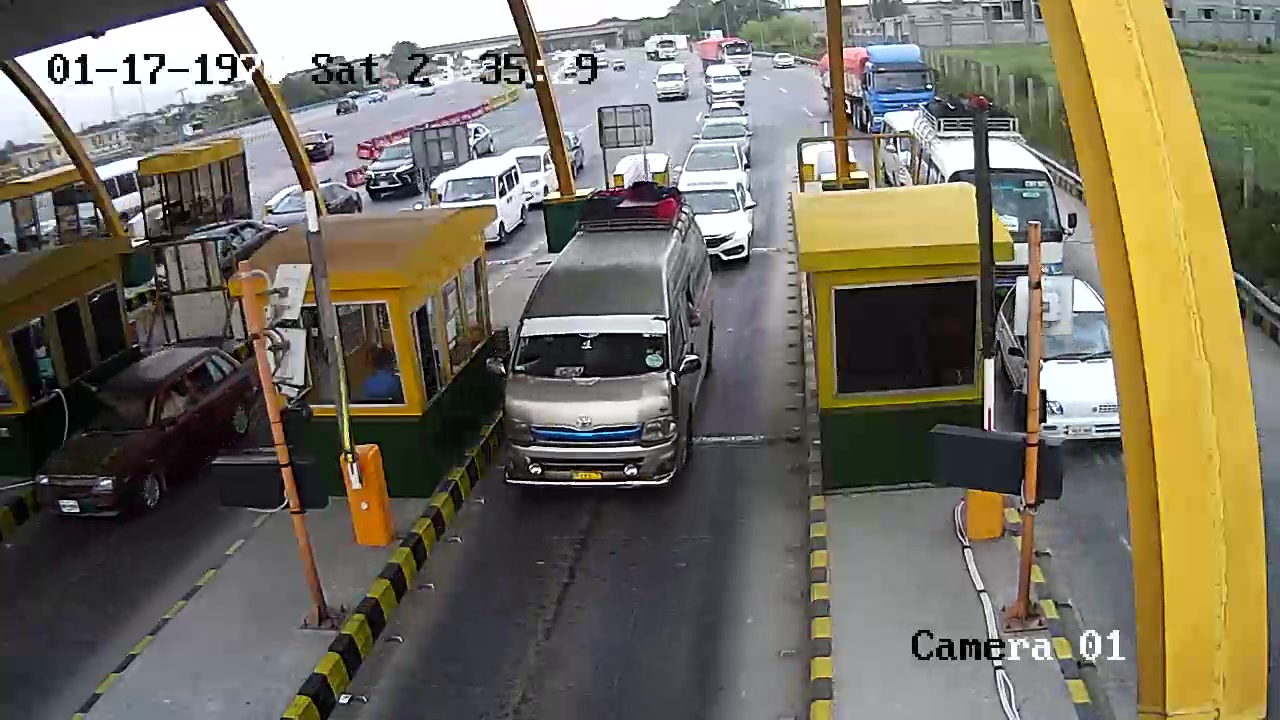F3: (492, 179, 723, 501)
